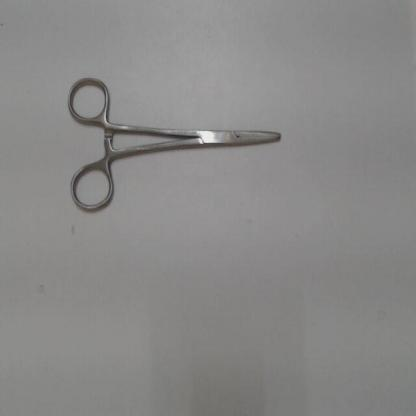Mayo Needle Holder: (63, 67, 288, 219)
